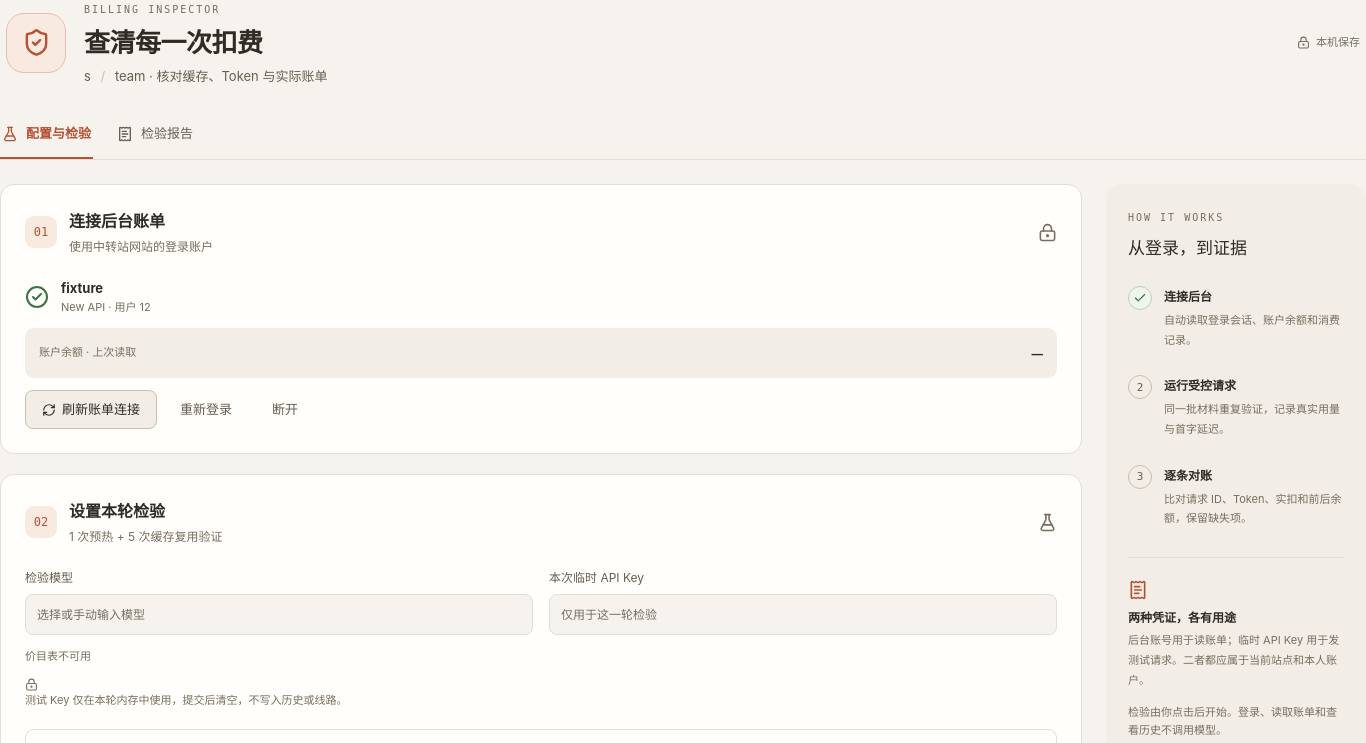
Test: requires an explicit temporary key and keeps failures visible without replay
This screenshot has width=1366, height=743.
Expected: the text "价目表不可用" is shown, [25,649,91,663]
Step 1. Type "fixture-model" into the field labelled "检验模型" → (279, 614), box [25,594,533,635]
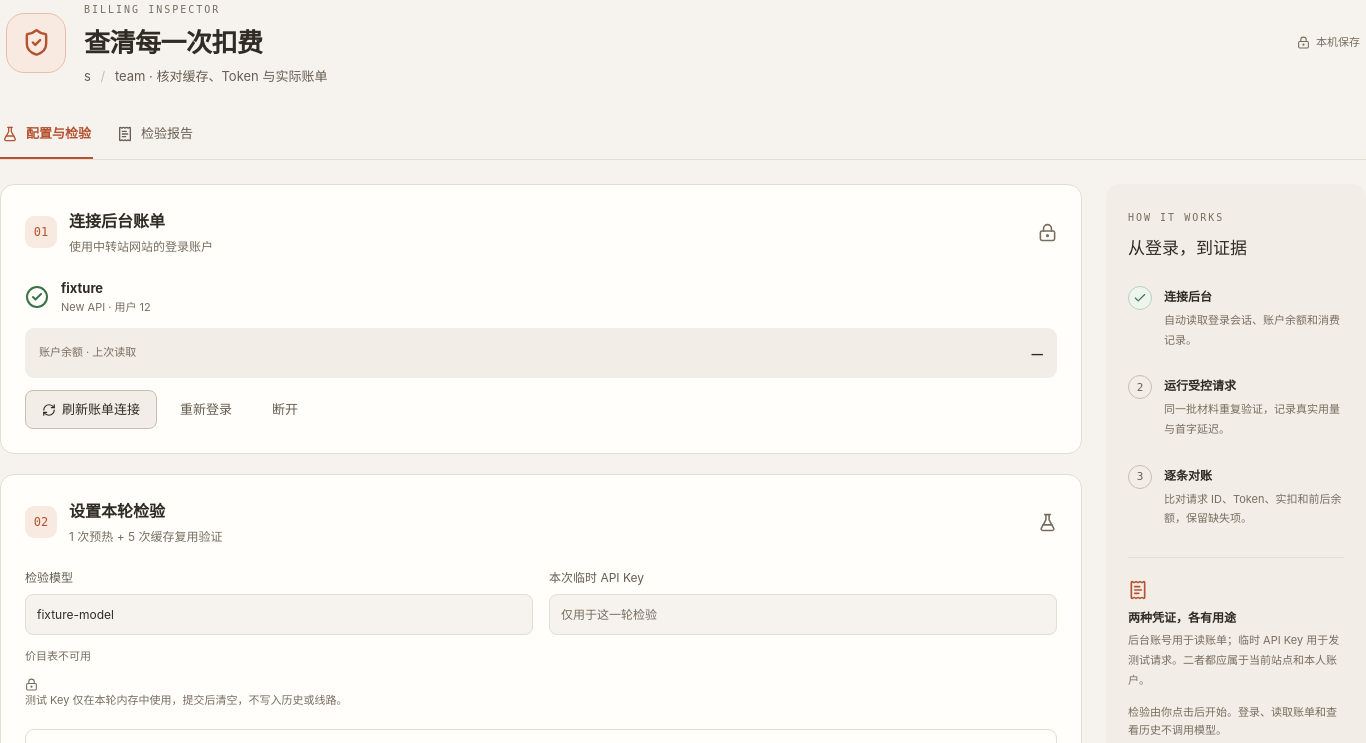
Step 2. Type "fixture-test-key" into the password field labelled "本次临时 API Key" → (803, 614), box [549,594,1057,635]
(page scrolled)
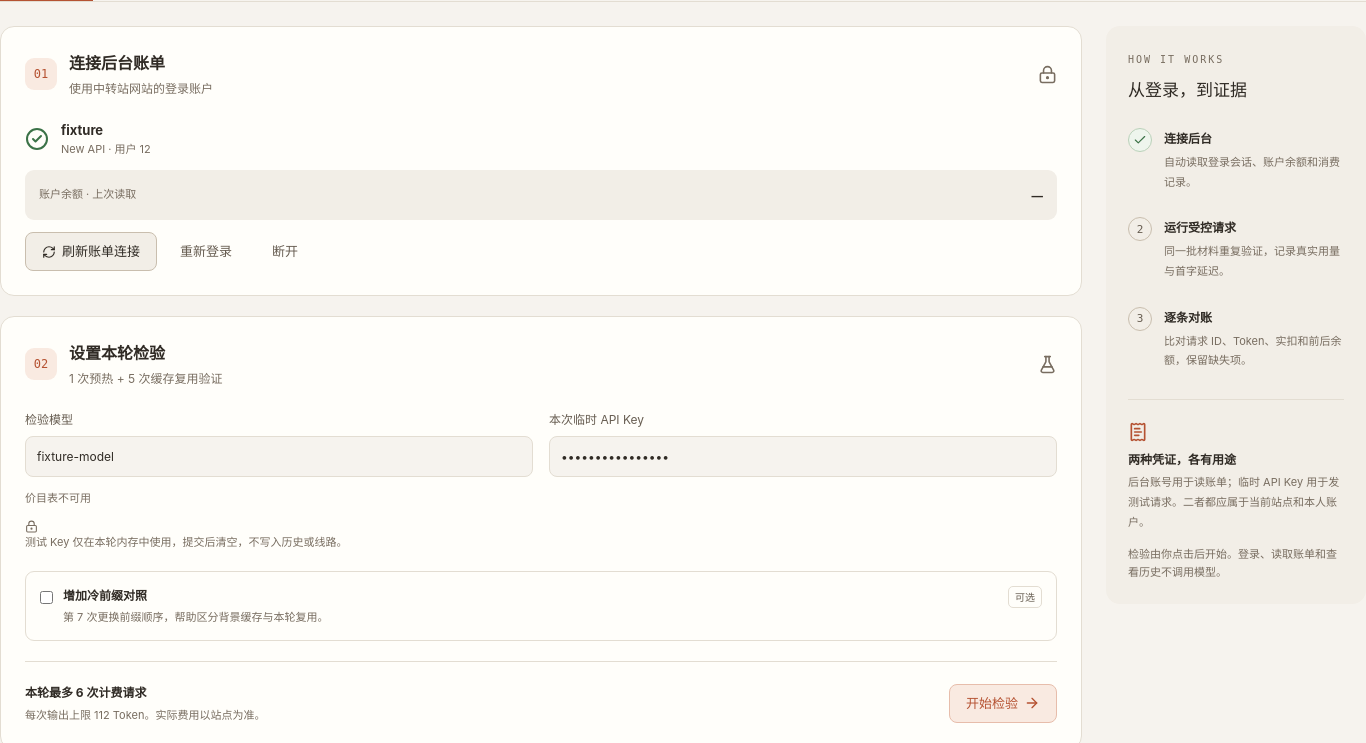
Step 3. Click the button "开始检验" → (1003, 704), box [949,684,1057,723]
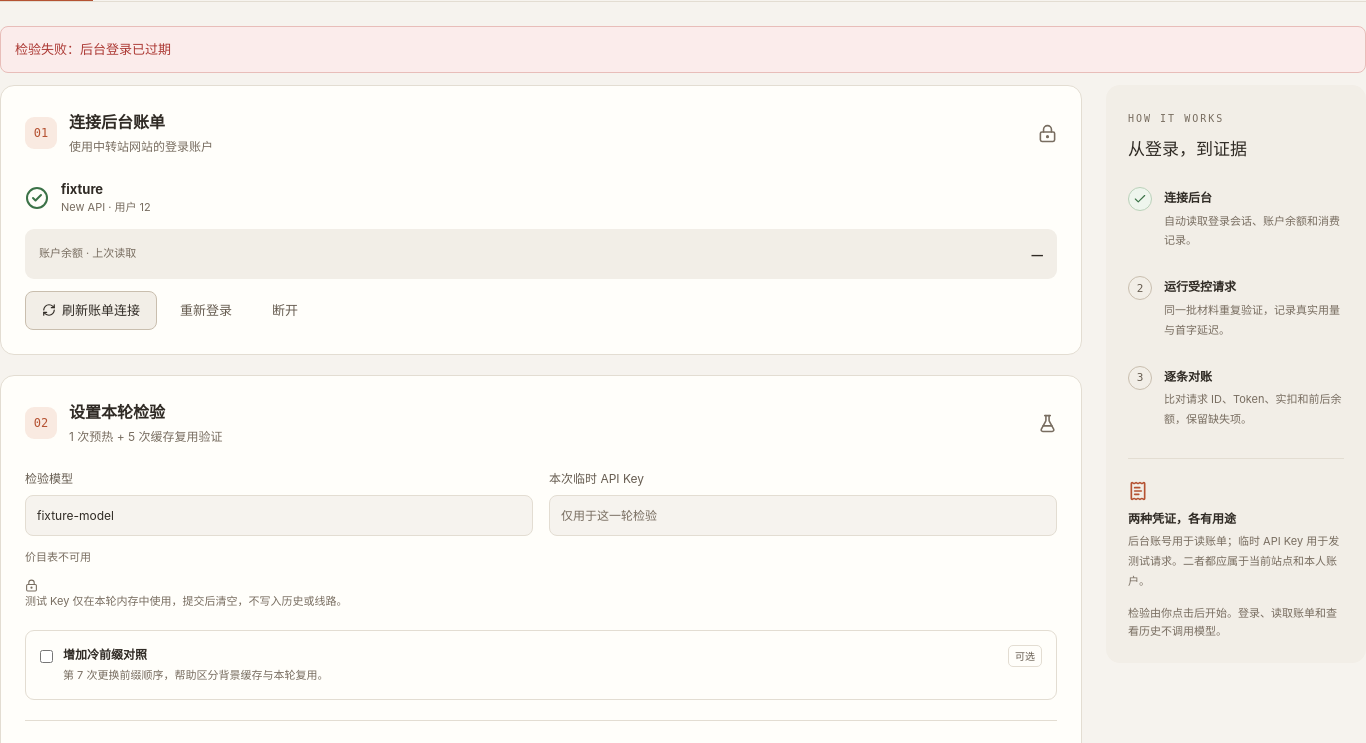
Result: the message reads "检验失败：后台登录已过期" at [15,41,171,57]
Result: the password field labelled "本次临时 API Key" is empty at [549,495,1057,536]
